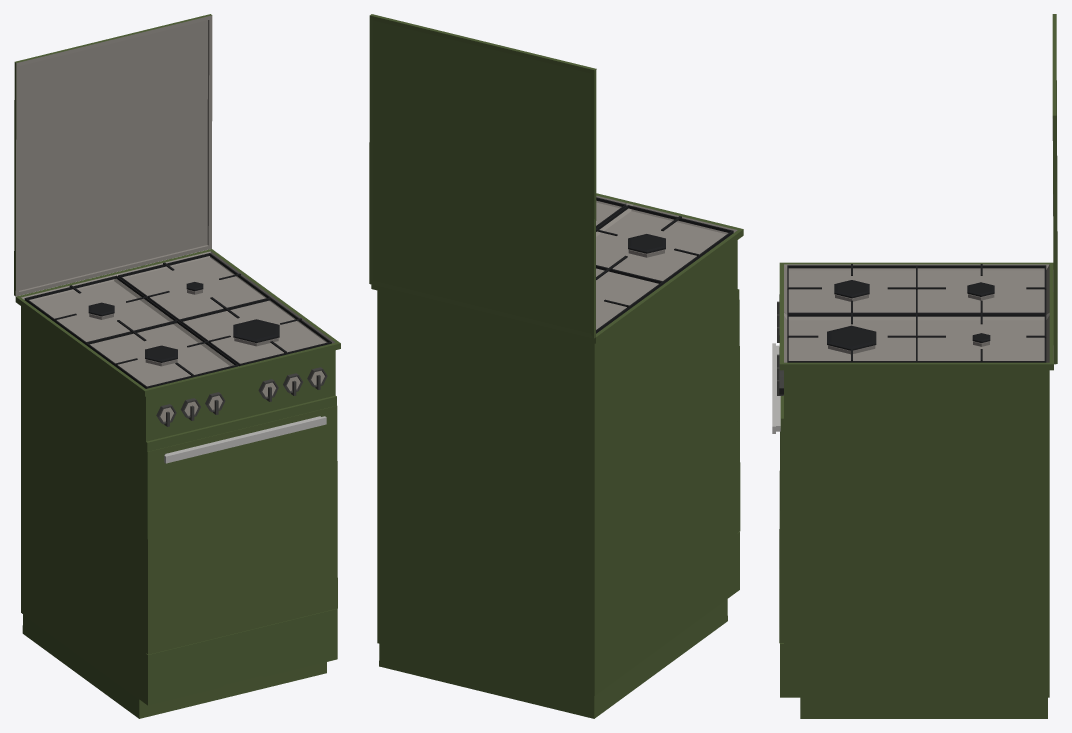
Rendered from kitchenstove_01_B.gltf.
3 views of the same model, side by side, from view 1: azimuth 30°, elevation 25°; view 2: azimuth 150°, elevation 25°; view 3: azimuth 270°, elevation 25° (orthographic). The views are drawn at different scales.
Visible parts, largest first — view 1: kitchenstove_01_B, coverforgasstove_01_B, kitchenstove_01_B.001, pulloutshelfforgasstove_01_B; view 2: kitchenstove_01_B, coverforgasstove_01_B, kitchenstove_01_B.001; view 3: kitchenstove_01_B, coverforgasstove_01_B, kitchenstove_01_B.001.
Boxes of the visible parts, box(x1,y1,x2,y2) form: kitchenstove_01_B: box(15, 249, 340, 718); coverforgasstove_01_B: box(14, 14, 212, 296); kitchenstove_01_B.001: box(145, 405, 337, 654); pulloutshelfforgasstove_01_B: box(146, 608, 337, 705); kitchenstove_01_B: box(371, 193, 743, 718); coverforgasstove_01_B: box(369, 14, 596, 338); kitchenstove_01_B.001: box(737, 300, 740, 532); kitchenstove_01_B: box(779, 262, 1053, 718); coverforgasstove_01_B: box(1052, 14, 1057, 364); kitchenstove_01_B.001: box(772, 343, 783, 643).
Size of the model in its own units: 0.5166 by 1.43 by 0.6127.
1 material, 1 textured.
